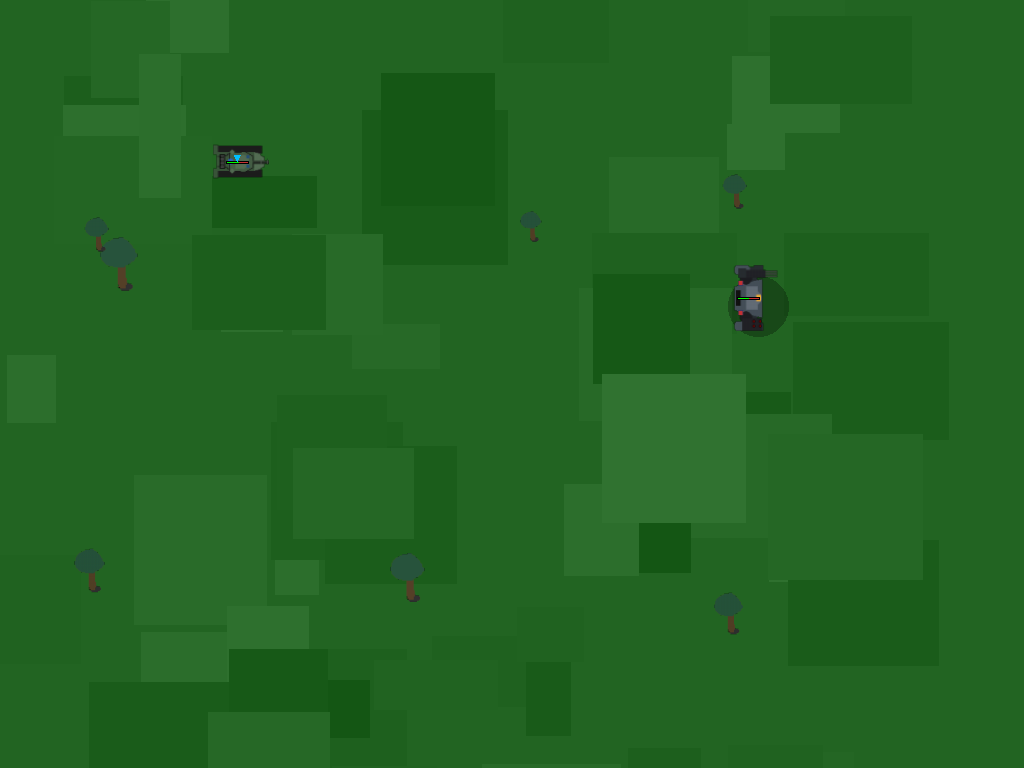Bastion: (724, 272, 773, 321)
Shotgunner: (210, 132, 265, 187)
